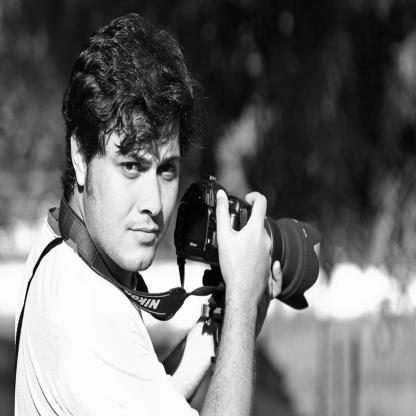Camera: (177, 180, 324, 308)
